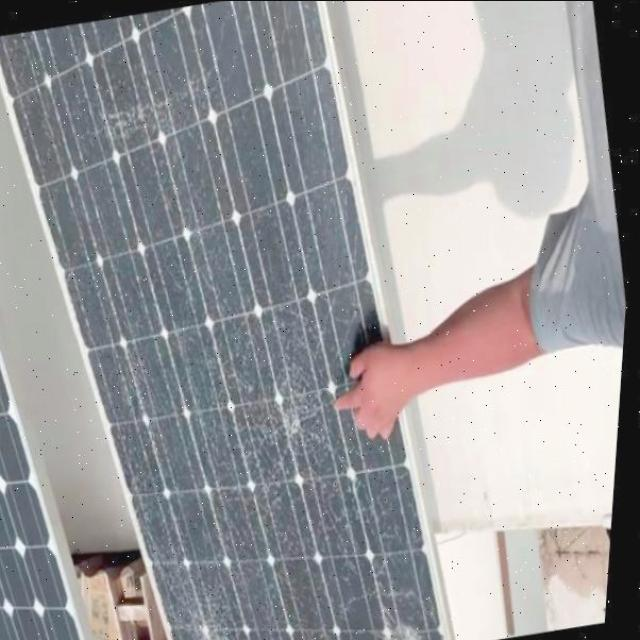Normal Solar Panel: (0, 27, 145, 640)
